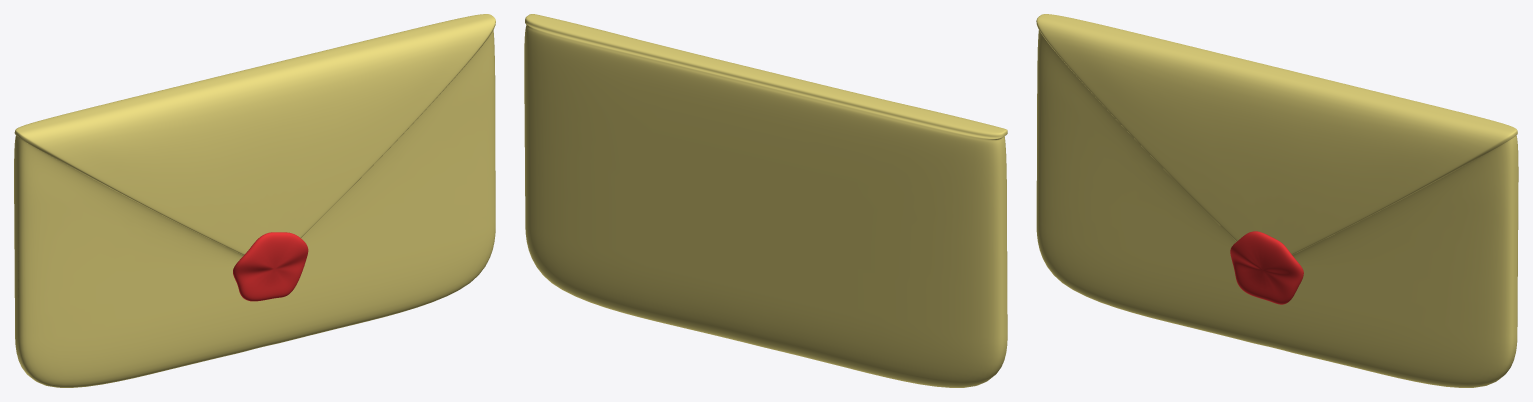
File: envelope.glb
3 renders of one model, left to right at view 1: azimuth 30°, elevation 25°; view 2: azimuth 150°, elevation 25°; view 3: azimuth 330°, elevation 25°, orthographic.
Parts seen in each view (by area): view 1: Box001, Cylinder001; view 2: Box001; view 3: Box001, Cylinder001.
Part boxes in pixels (<box>): Box001: <box>14,14,495,387</box>; Cylinder001: <box>233,232,308,301</box>; Box001: <box>524,14,1007,387</box>; Box001: <box>1036,14,1518,387</box>; Cylinder001: <box>1230,231,1303,304</box>.
Bounding box in the file's own units: 140 × 76.53 × 15.08.
